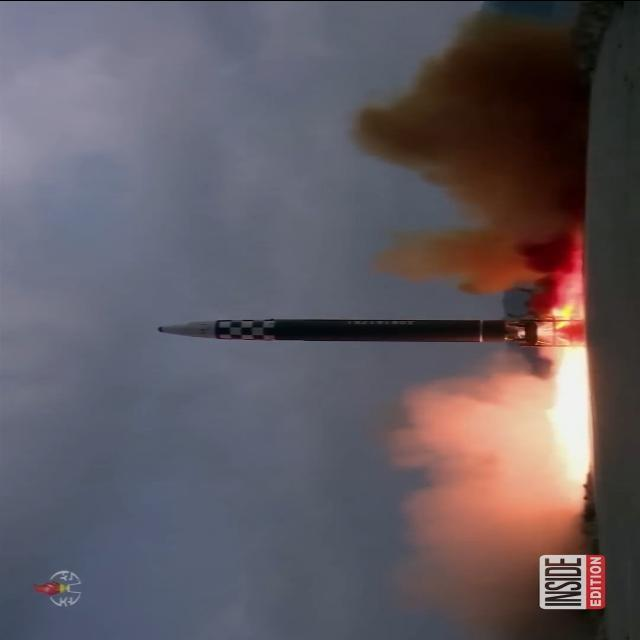missile: (144, 313, 532, 345)
